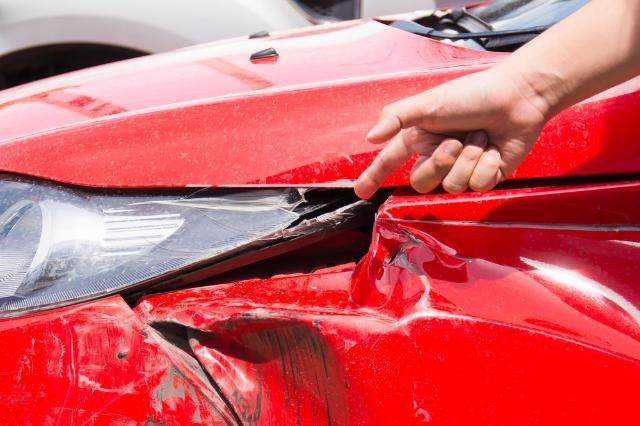dent: (149, 218, 640, 426)
dislocated part: (121, 181, 640, 425)
lamp broken: (0, 173, 368, 320)
scratch: (24, 299, 226, 426)
